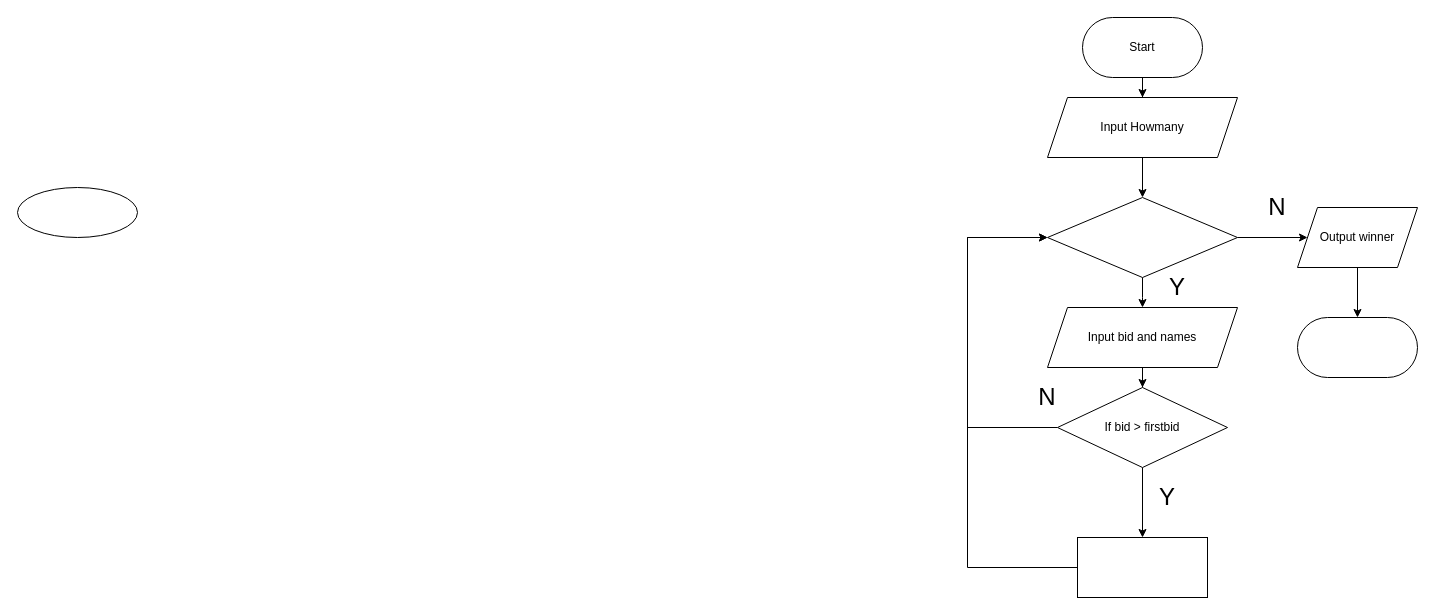
Image size: 1435x615. Some labels were removed from this diagram. The centre of each missing label's shape, as x and y in pixels:
"Bid == firstbid Names= Winner" belongs at [1142,567].
"End" belongs at [1357,347].
"for(int i = 0; i < howmany;i++" belongs at [1142,237].
